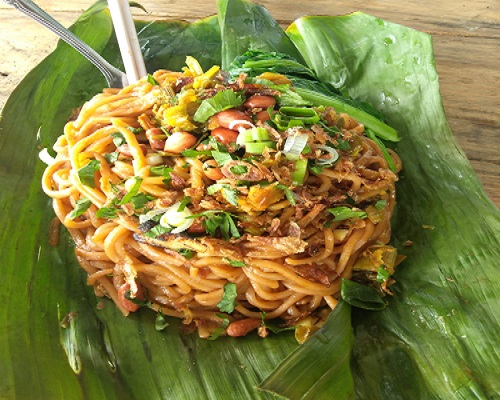Mie: (61, 60, 423, 318)
